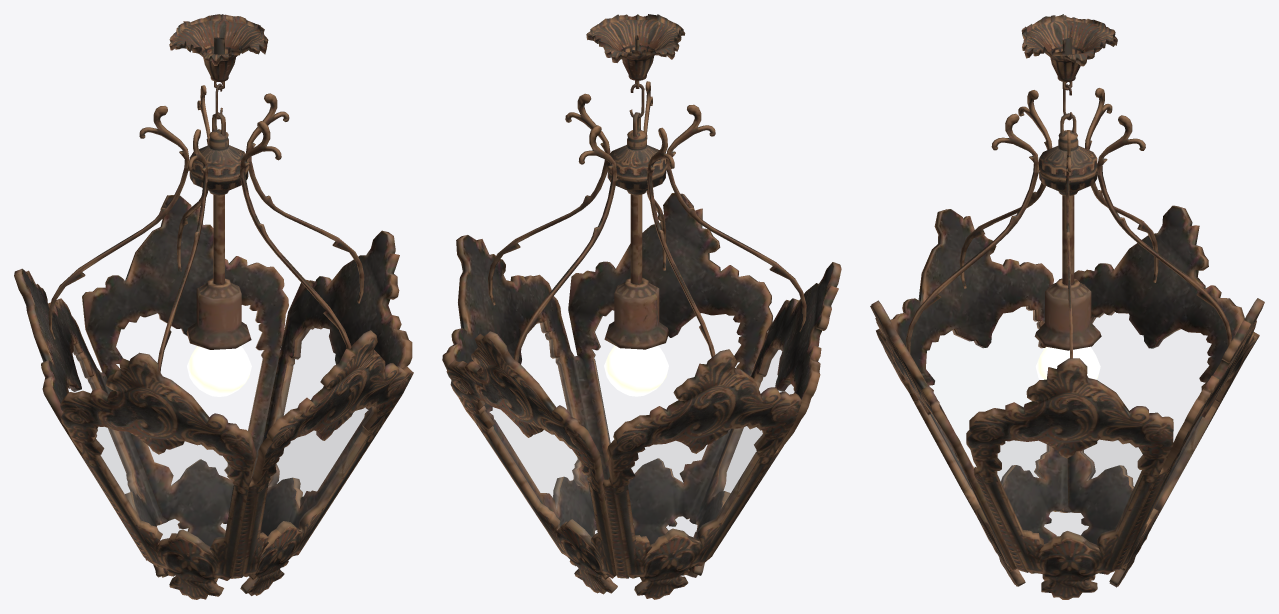
The model's file is lantern_chandelier_01.glb.
3 views of the same model, side by side, from view 1: azimuth 30°, elevation 25°; view 2: azimuth 150°, elevation 25°; view 3: azimuth 270°, elevation 25° (orthographic).
Visible parts, largest first — view 1: lantern_chandelier_01; view 2: lantern_chandelier_01; view 3: lantern_chandelier_01.
Part boxes in pixels (x1,y1,x2,y2): lantern_chandelier_01: [14, 14, 413, 599]; lantern_chandelier_01: [442, 14, 841, 599]; lantern_chandelier_01: [870, 14, 1264, 599].
Size of the model in its own units: 0.5792 by 0.8776 by 0.5746.
Materials: 3 (1 with a texture image).
